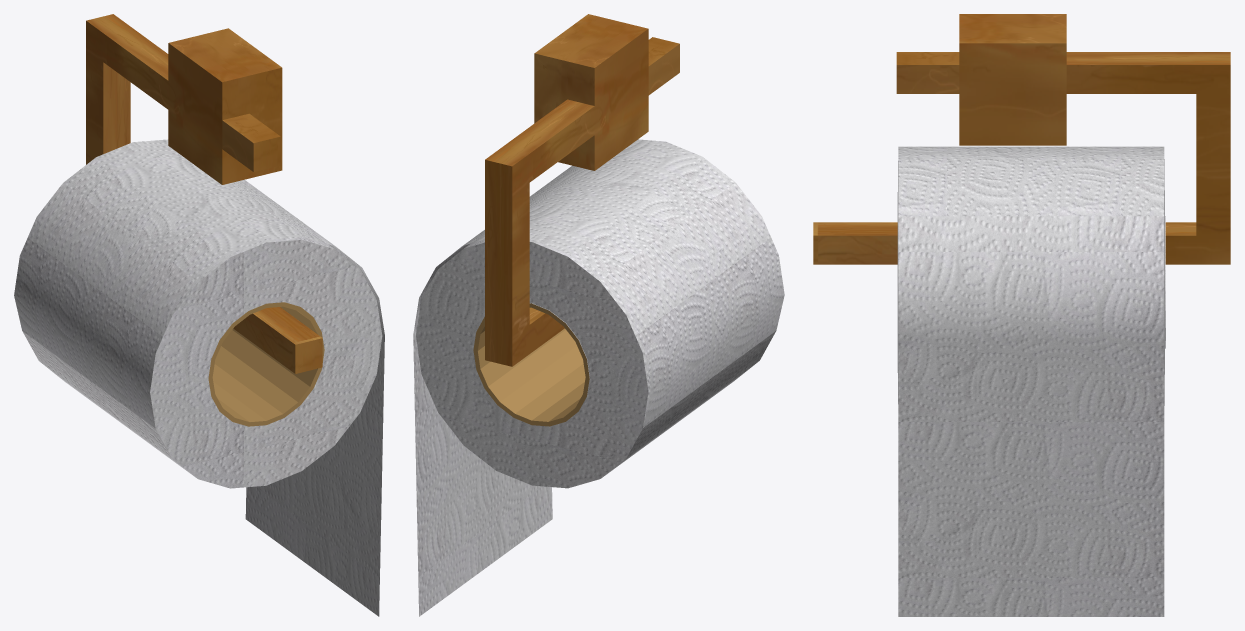
The model's file is toilet roll.fbx.
The picture shows the model from 3 angles, left to right: view 1: azimuth 30°, elevation 25°; view 2: azimuth 150°, elevation 25°; view 3: azimuth 270°, elevation 25°; orthographic projection.
Visible parts, largest first — view 1: polySurface5; view 2: polySurface5; view 3: polySurface5.
Part boxes in pixels (x1,y1,x2,y2): polySurface5: (14, 14, 384, 616); polySurface5: (413, 14, 784, 616); polySurface5: (813, 14, 1230, 616).
Size of the model in its own units: 7.05 by 15.41 by 10.77.
3 materials, 2 textured.
